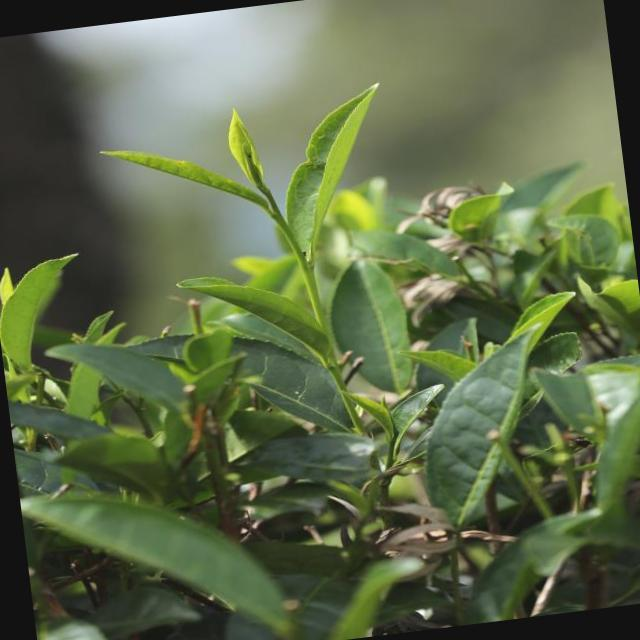Stem: (271, 209, 280, 218)
